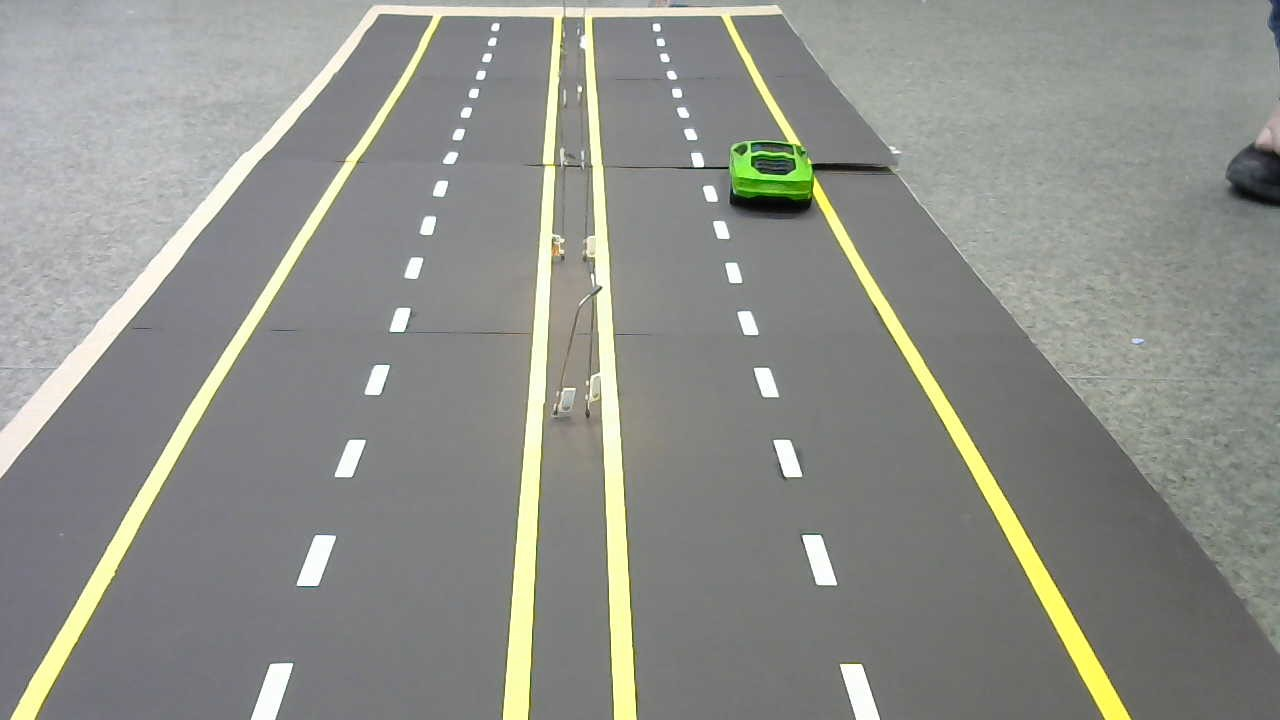back_car: (723, 136, 819, 214)
